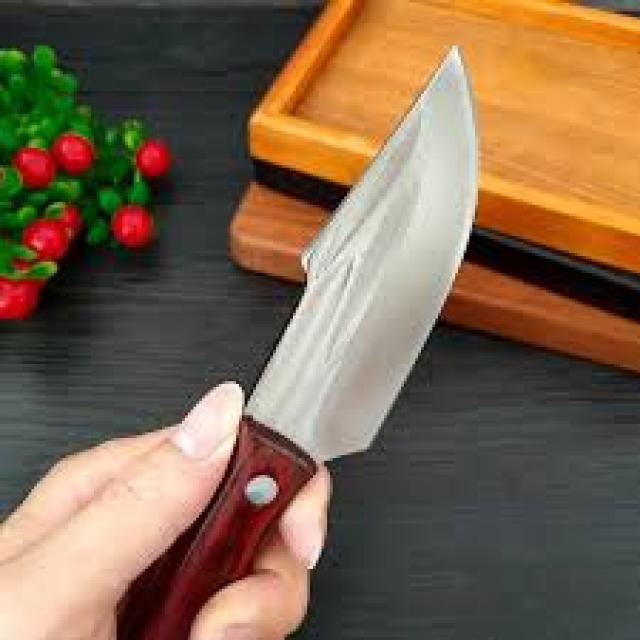Knife: (122, 48, 475, 637)
